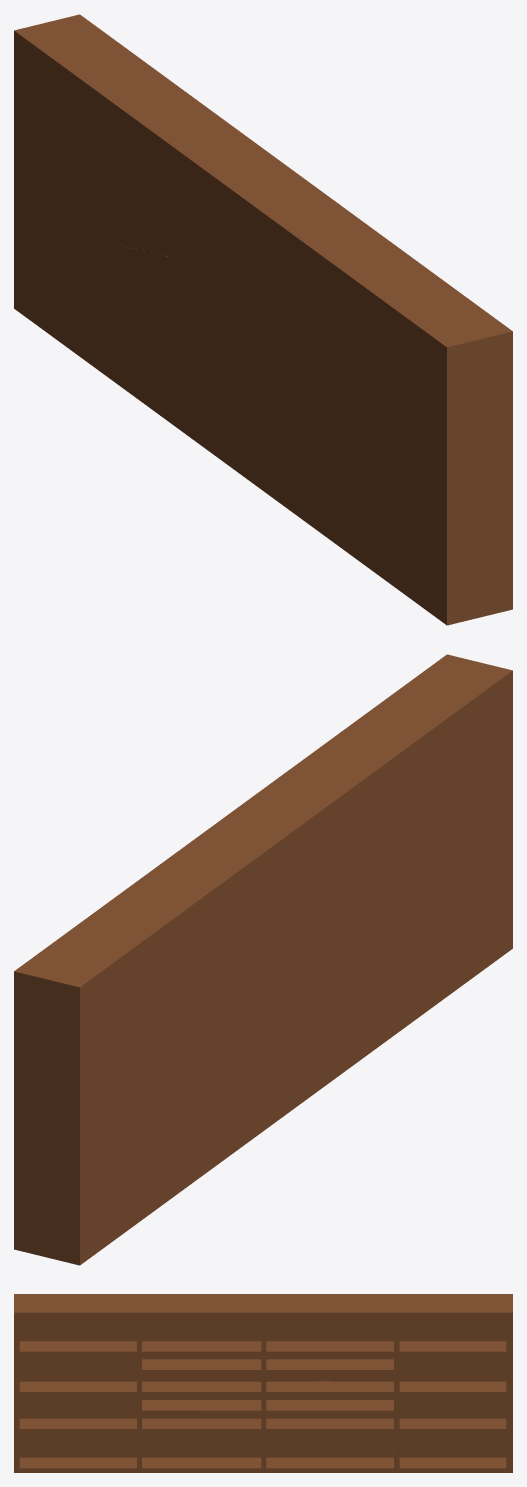
File: shelves.fbx
3 views of the same model, one above another, from view 1: azimuth 30°, elevation 25°; view 2: azimuth 150°, elevation 25°; view 3: azimuth 270°, elevation 25° (orthographic). The views are drawn at different scales.
Parts seen in each view (by area): view 1: Cube, Cube_cell.010, Cube_cell.014, Cube_cell.038, Cube_cell.006, Cube_cell.003, Cube_cell.015, Cube_cell.031, Cube_cell.013, Cube_cell.021, Cube_cell.022, Cube_cell.035 (+18 smaller); view 2: Cube, Cube_cell.038, Cube_cell.010, Cube_cell.014, Cube_cell.011, Cube_cell.013, Cube_cell.006, Cube_cell.030, Cube_cell.031, Cube_cell.003, Cube_cell.002, Cube_cell.016 (+12 smaller); view 3: Cube, Cube_cell.027, Cube_cell.007, Cube_cell.014, Cube_cell.010, Cube_cell.028, Cube_cell, Cube_cell.030, Cube_cell.002, Cube_cell.019, Cube_cell.008, Cube_cell.026 (+25 smaller).
Part boxes in pixels (x1=…): Cube: x1=14, y1=31, x2=512, y2=624; Cube_cell.010: x1=169, y1=137, x2=346, y2=262; Cube_cell.014: x1=80, y1=49, x2=246, y2=143; Cube_cell.038: x1=14, y1=14, x2=126, y2=142; Cube_cell.006: x1=68, y1=233, x2=174, y2=388; Cube_cell.003: x1=57, y1=74, x2=169, y2=255; Cube_cell.015: x1=391, y1=311, x2=512, y2=399; Cube_cell.031: x1=282, y1=389, x2=390, y2=544; Cube_cell.013: x1=175, y1=297, x2=286, y2=420; Cube_cell.021: x1=285, y1=257, x2=392, y2=402; Cube_cell.022: x1=288, y1=232, x2=391, y2=351; Cube_cell.035: x1=462, y1=436, x2=512, y2=511; Cube: x1=14, y1=654, x2=512, y2=1265; Cube_cell.038: x1=14, y1=937, x2=140, y2=1068; Cube_cell.010: x1=183, y1=776, x2=354, y2=897; Cube_cell.014: x1=61, y1=849, x2=233, y2=941; Cube_cell.011: x1=42, y1=1063, x2=134, y2=1265; Cube_cell.013: x1=241, y1=923, x2=352, y2=1079; Cube_cell.006: x1=134, y1=987, x2=240, y2=1170; Cube_cell.030: x1=14, y1=1103, x2=70, y2=1255; Cube_cell.031: x1=348, y1=894, x2=456, y2=1029; Cube_cell.003: x1=123, y1=908, x2=235, y2=1064; Cube_cell.002: x1=14, y1=1006, x2=125, y2=1114; Cube_cell.016: x1=353, y1=812, x2=458, y2=939; Cube: x1=14, y1=1294, x2=512, y2=1472; Cube_cell.027: x1=325, y1=1436, x2=469, y2=1468; Cube_cell.007: x1=197, y1=1437, x2=330, y2=1470; Cube_cell.014: x1=321, y1=1294, x2=458, y2=1332; Cube_cell.010: x1=196, y1=1294, x2=334, y2=1321; Cube_cell.028: x1=199, y1=1380, x2=332, y2=1415; Cube_cell: x1=329, y1=1323, x2=452, y2=1377; Cube_cell.030: x1=454, y1=1375, x2=512, y2=1472; Cube_cell.002: x1=453, y1=1334, x2=512, y2=1395; Cube_cell.019: x1=379, y1=1396, x2=454, y2=1441; Cube_cell.008: x1=327, y1=1398, x2=418, y2=1442; Cube_cell.026: x1=82, y1=1440, x2=199, y2=1457.
Size of the model in its own units: 62.16 by 251 by 707.
